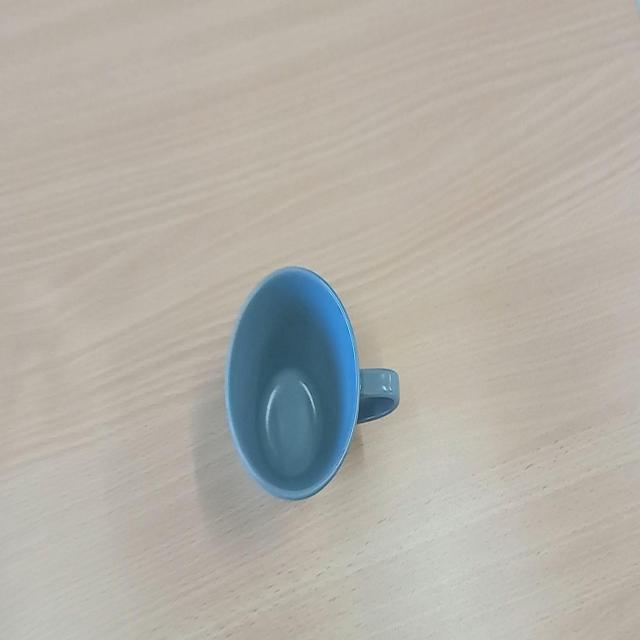cup: (226, 262, 402, 504)
